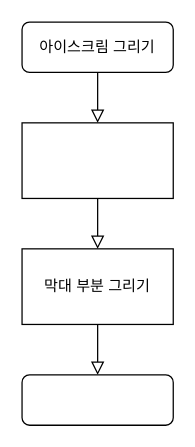
Image size: 195x447. Some labels were removed from this diagram. Here are the shapes that lost their labels. From the top down, the centre of each, then its label:
the point at 97,160: 아이스크림 부분 그리기
the point at 97,399: 아이스크림 완성
